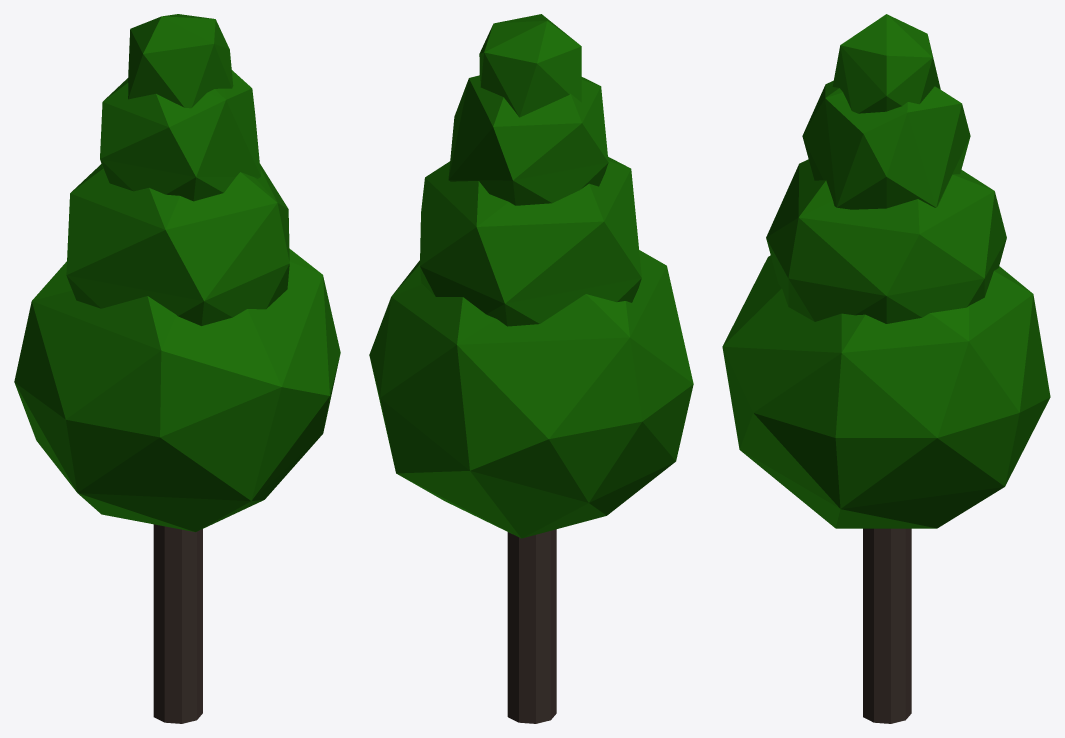
File: Simple_Tree_7.fbx
The picture shows the model from 3 angles, left to right: view 1: azimuth 30°, elevation 25°; view 2: azimuth 150°, elevation 25°; view 3: azimuth 270°, elevation 25°; orthographic projection.
Visible parts, largest first — view 1: Simple_Tree_7; view 2: Simple_Tree_7; view 3: Simple_Tree_7.
Boxes of the visible parts, box(x1,y1,x2,y2) form: Simple_Tree_7: box(14, 14, 340, 723); Simple_Tree_7: box(369, 14, 693, 723); Simple_Tree_7: box(722, 14, 1050, 723).
Bounding box in the file's own units: 307 × 747 × 321.
